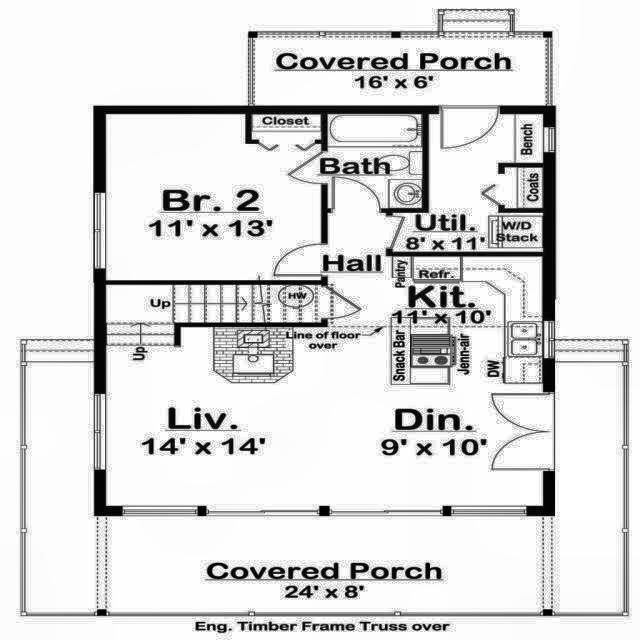room: (106, 211, 543, 505), (108, 115, 319, 279), (392, 114, 543, 252), (328, 115, 421, 208)
